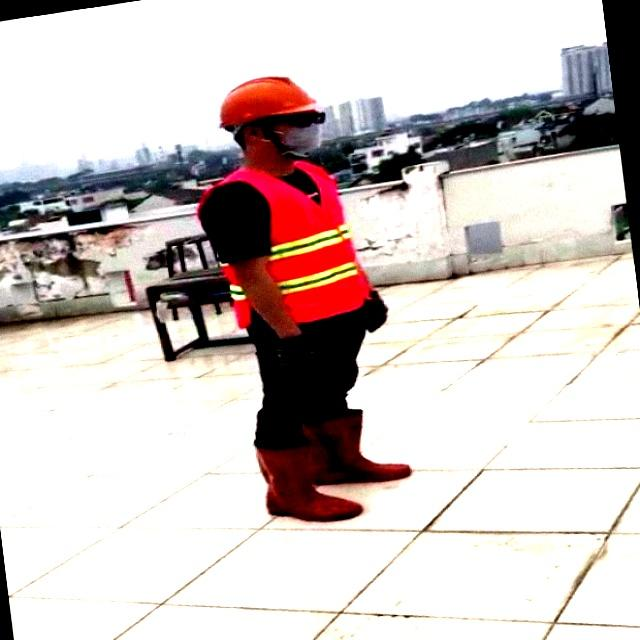helmet: (210, 74, 326, 124)
safety_vest: (198, 154, 372, 326)
